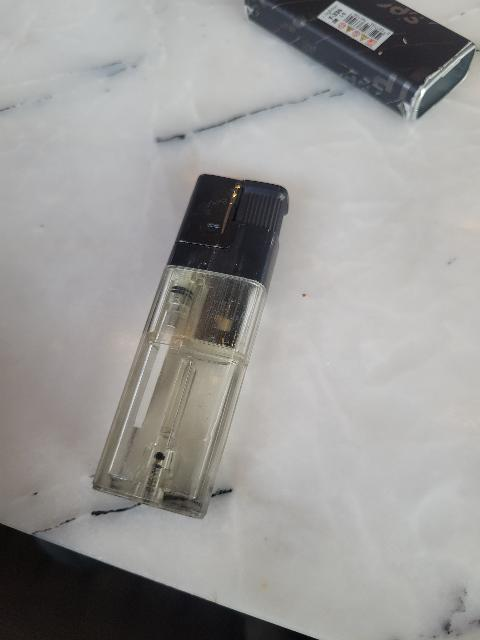Metal: (245, 0, 480, 127)
Plastik: (90, 170, 294, 521)
